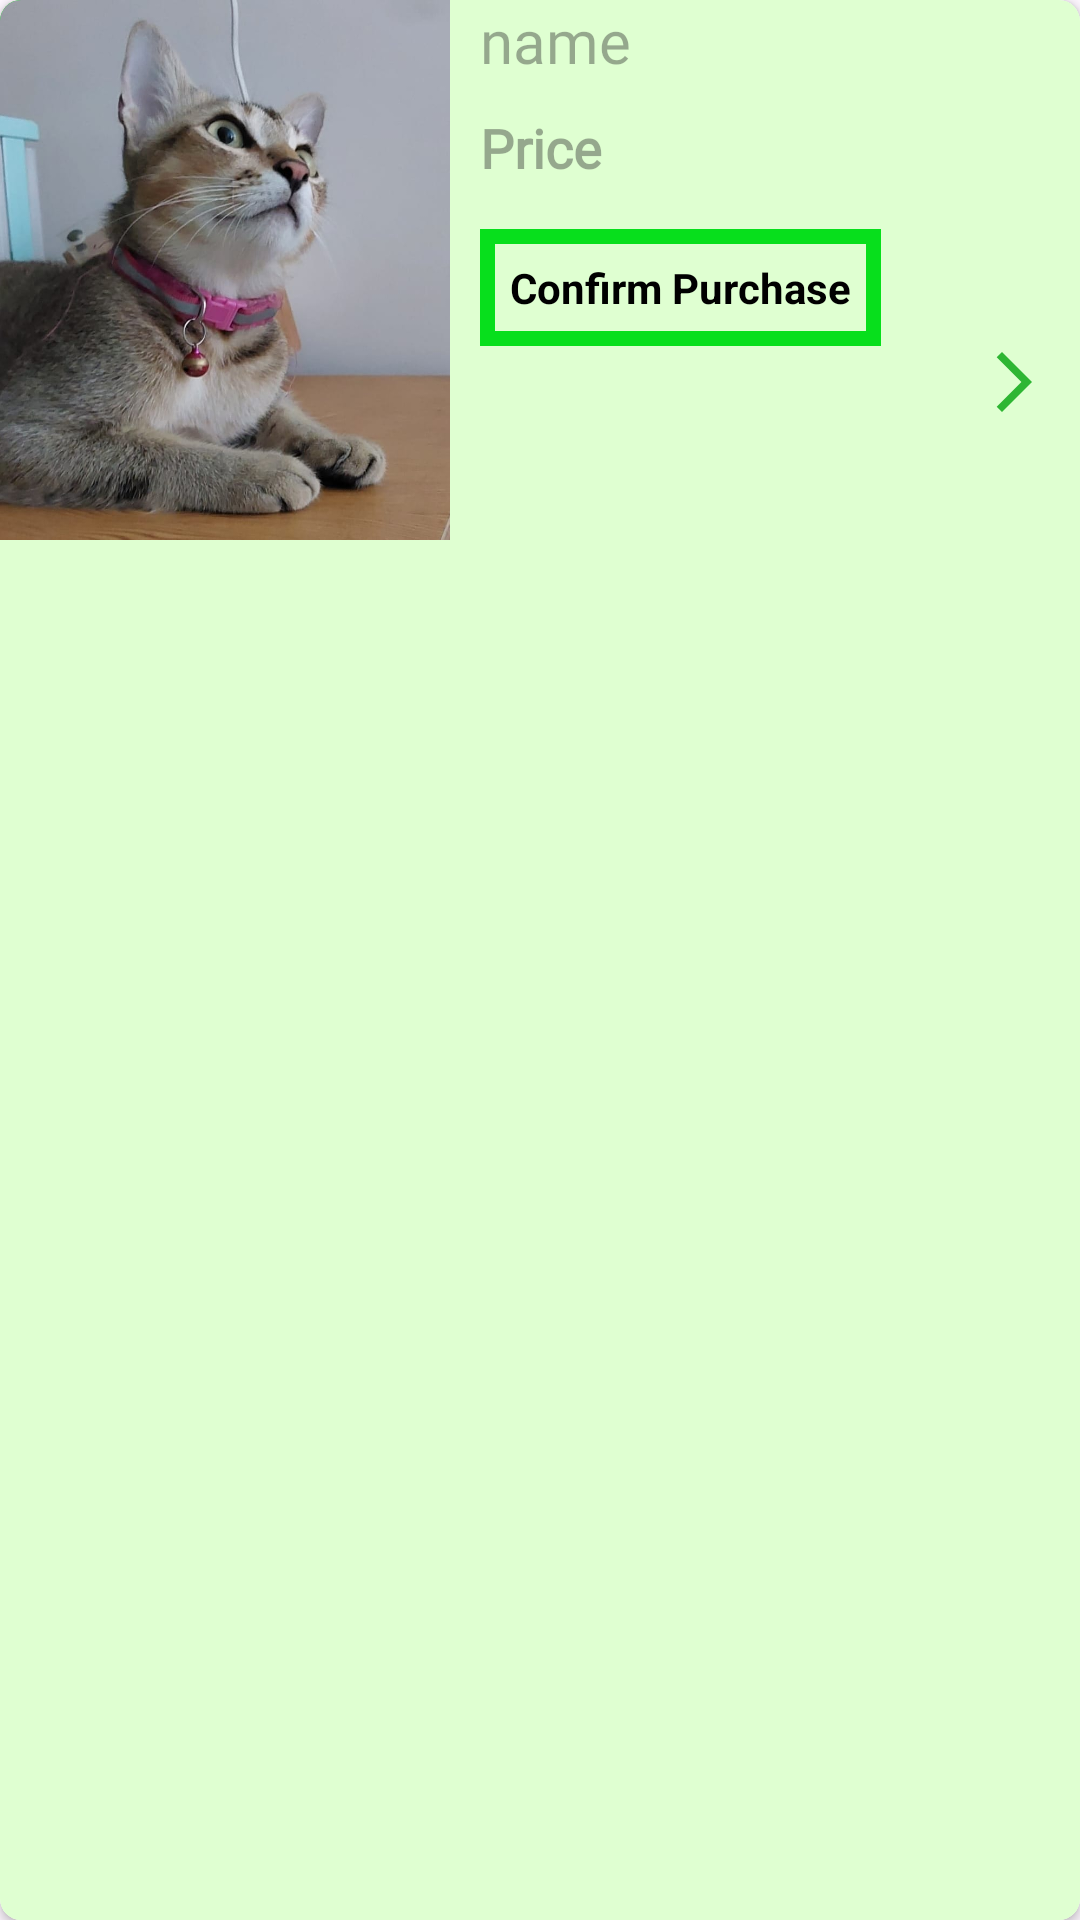

Named icons in this screenshot (1080×1920) and their bounding boxes, [x1,y1,x2,y2]:
arrow forward: [997,352,1032,412]
